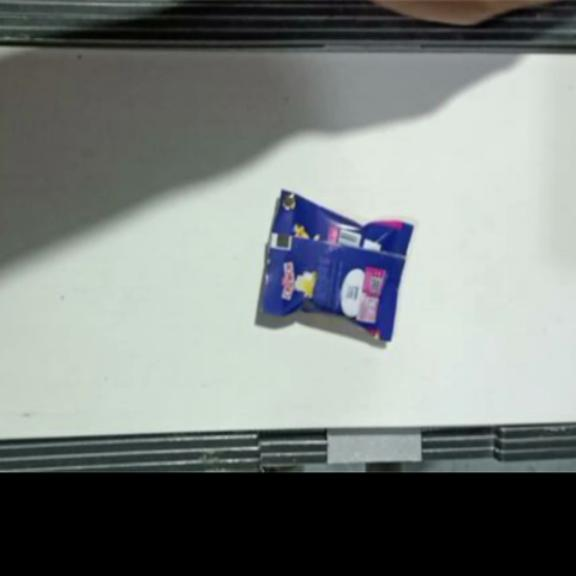Plastik: (258, 191, 414, 343)
